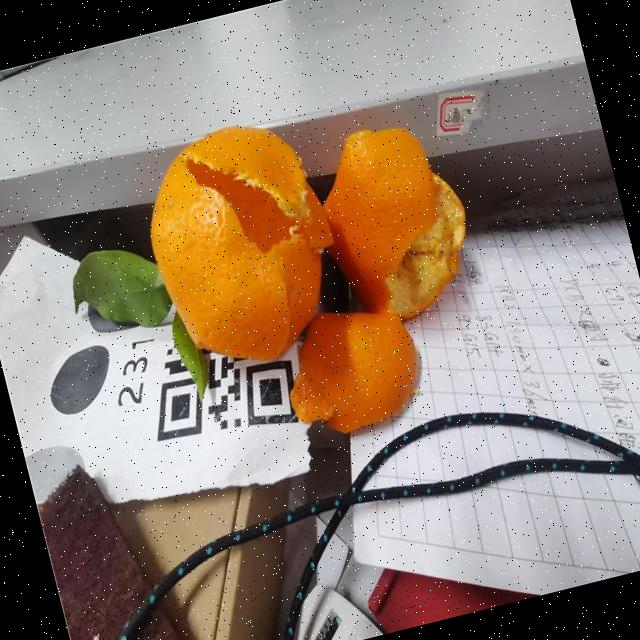orange-peel: (126, 107, 357, 380), (302, 113, 462, 322), (269, 290, 432, 444)
